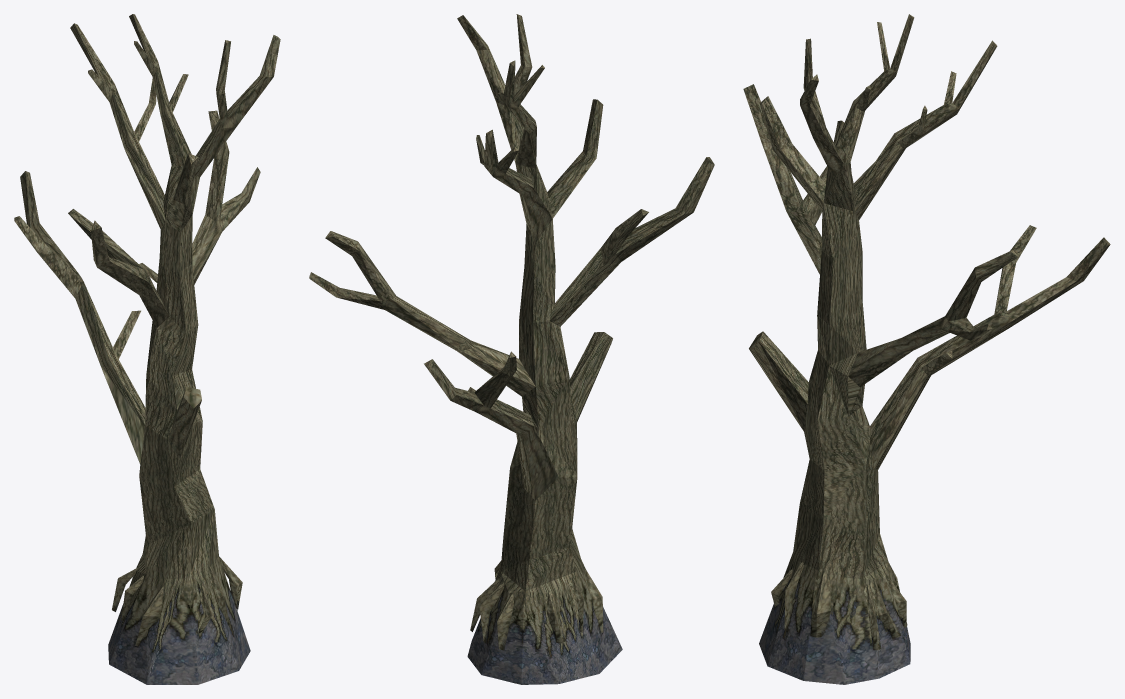
The model's file is C4SNDEADTREEA.obj.
3 renders of one model, left to right at view 1: azimuth 30°, elevation 25°; view 2: azimuth 150°, elevation 25°; view 3: azimuth 270°, elevation 25°, orthographic. The views are drawn at different scales.
Parts seen in each view (by area): view 1: Node 0; view 2: Node 0; view 3: Node 0.
Part boxes in pixels (x1,y1,x2,y2): Node 0: (14,14,280,684); Node 0: (309,14,714,684); Node 0: (743,14,1110,684).
Size of the model in its own units: 14.56 by 30.03 by 15.78.
Materials: 1 (1 with a texture image).
